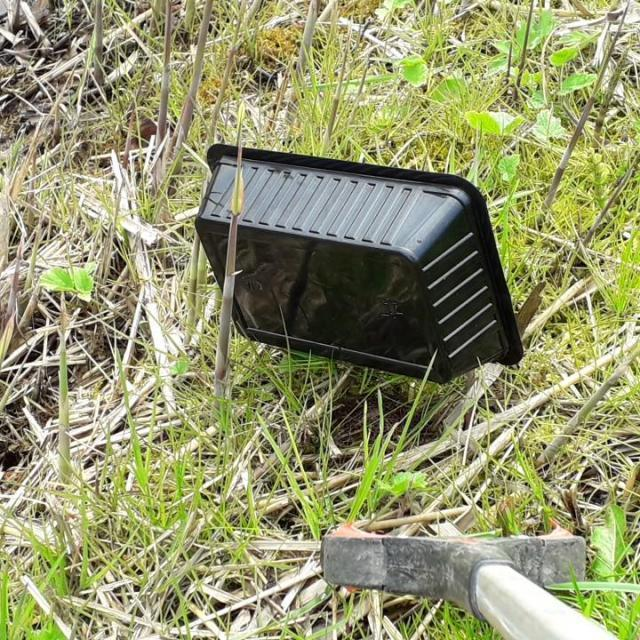Plastic: (192, 142, 526, 386)
